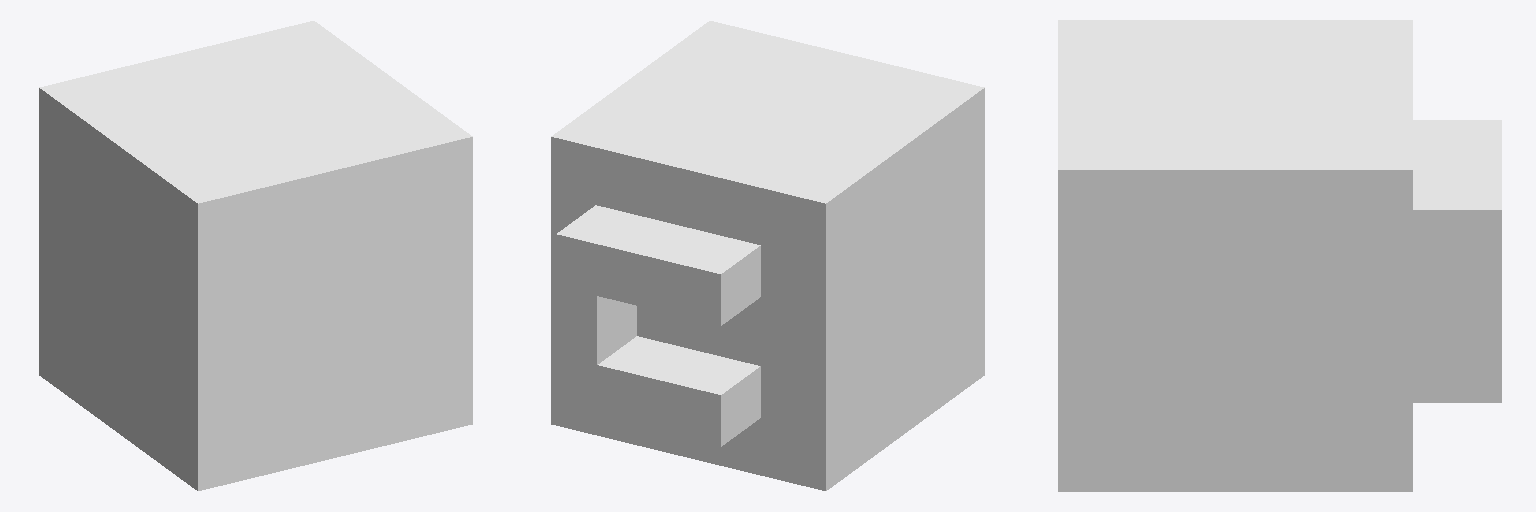
robot.urdf — U_cube_cap_preprocessed:
<?xml version="1.0" ?>
<robot name="U_cube_cap_preprocessed">
  <link name="baseLink">
    <contact>
    	<friction_anchor/>
    	   <lateral_friction value="1.0"/>
    </contact>
    <inertial>
      <origin rpy="0 0 0" xyz="0 0 0"/>
       <!-- mass controls penetration -->
       <mass value=".5"/>
       <inertia ixx="1e-4" ixy="0" ixz="0" iyy="1e-4" iyz="0" izz="1e-4"/>
    </inertial>
    <visual>
      <origin rpy="0 0 0" xyz="0 0 0"/>
      <geometry>
        <mesh filename="U_cube_cap_preprocessed.obj"/>
      </geometry>
       <material name="white">
        <color rgba="1 1 1 1"/>
      </material>
    </visual>
    <collision>
      <origin rpy="0 0 0" xyz="0 0 0"/>
      <geometry>
        <mesh filename="U_cube_cap_preprocessed.obj"/>
      </geometry>
    </collision>
  </link>
</robot>

--- Render facts (derived) ---
Views: 3 orthographic renders of the robot side by side, from view 1: azimuth 30°, elevation 25°; view 2: azimuth 150°, elevation 25°; view 3: azimuth 270°, elevation 25°.
Robot: U_cube_cap_preprocessed — 1 links, 0 joints (none); root link baseLink; default pose: every joint at zero.
Visible links, largest first — view 1: baseLink; view 2: baseLink; view 3: baseLink.
Boxes of the visible links, x1,y1,x2,y2 form: baseLink: (39, 21, 472, 490); baseLink: (551, 21, 984, 490); baseLink: (1058, 20, 1501, 491).
Size in the robot's own frame: 0.08 by 0.1 by 0.08 metres.
1 mesh visuals loaded from 1 distinct referenced files (1 OBJ).